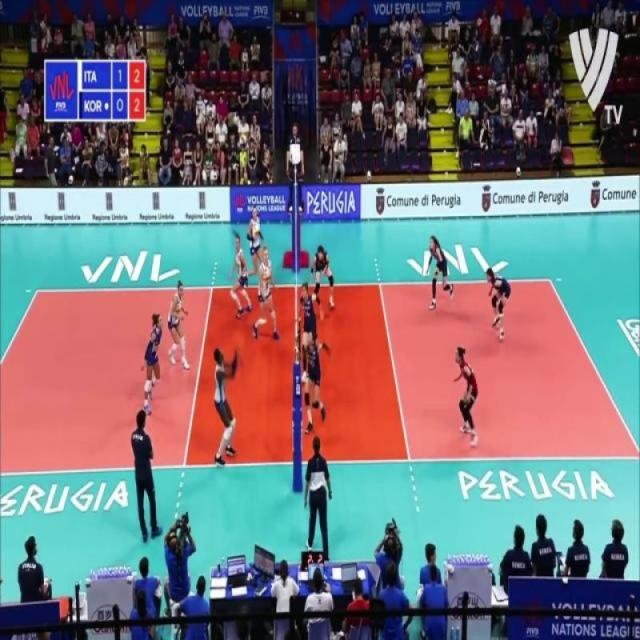volleyball: (238, 134, 249, 150)
